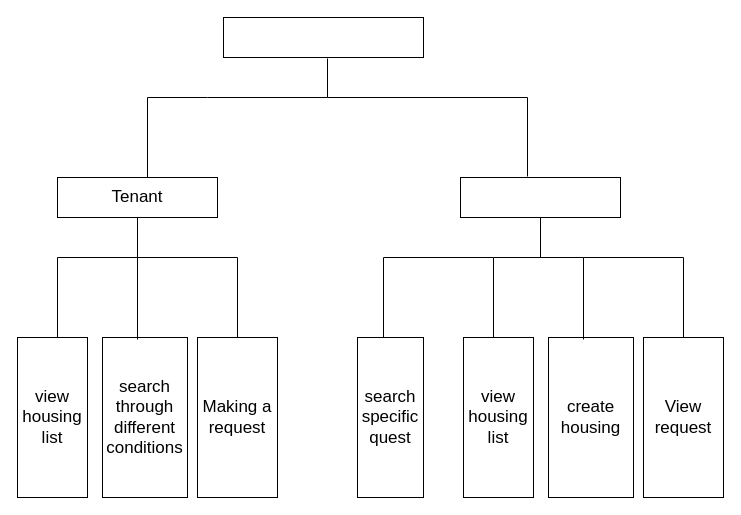
Image size: 741x515. Some labels were removed from this diagram. Each missing label, with the centre of its shape:
"Landlord" goes at pixel 540 197.
"Too young Too simple" goes at pixel 323 37.
